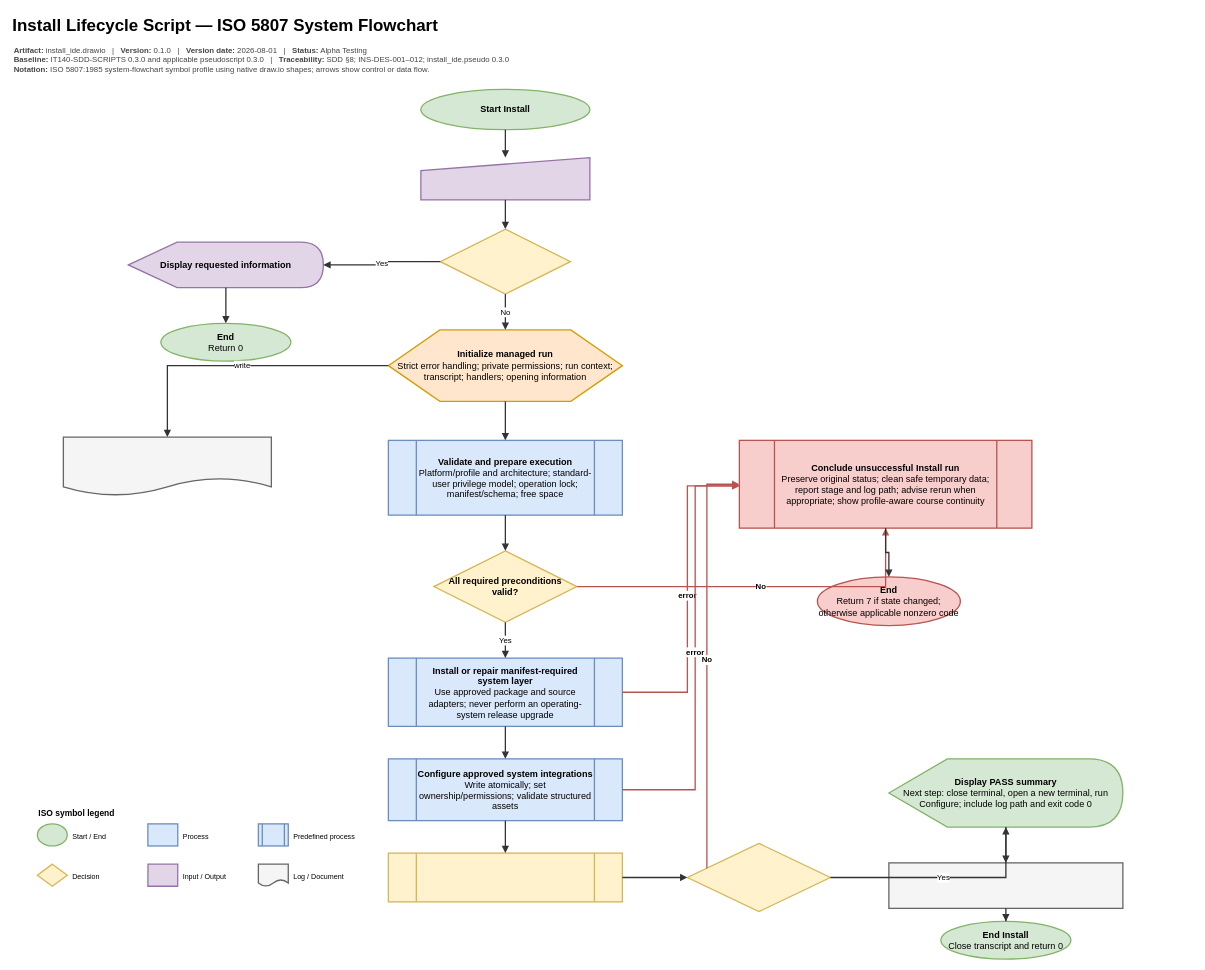
The diagram is 1205 pixels wide and 970 high, and some of its shapes have lost their labels. Each missing label, with the box of its shape:
Clean temporary data and release lock: (888, 862, 1123, 909)
Help or version requested?: (439, 228, 571, 294)
Parse supported options: (420, 157, 590, 200)
Post-validate required system state: (387, 852, 623, 902)
Private Install transcript ~/it140/logs/install_ide_<timestamp>.log: (62, 436, 272, 496)
Required system state valid?: (686, 842, 831, 912)
